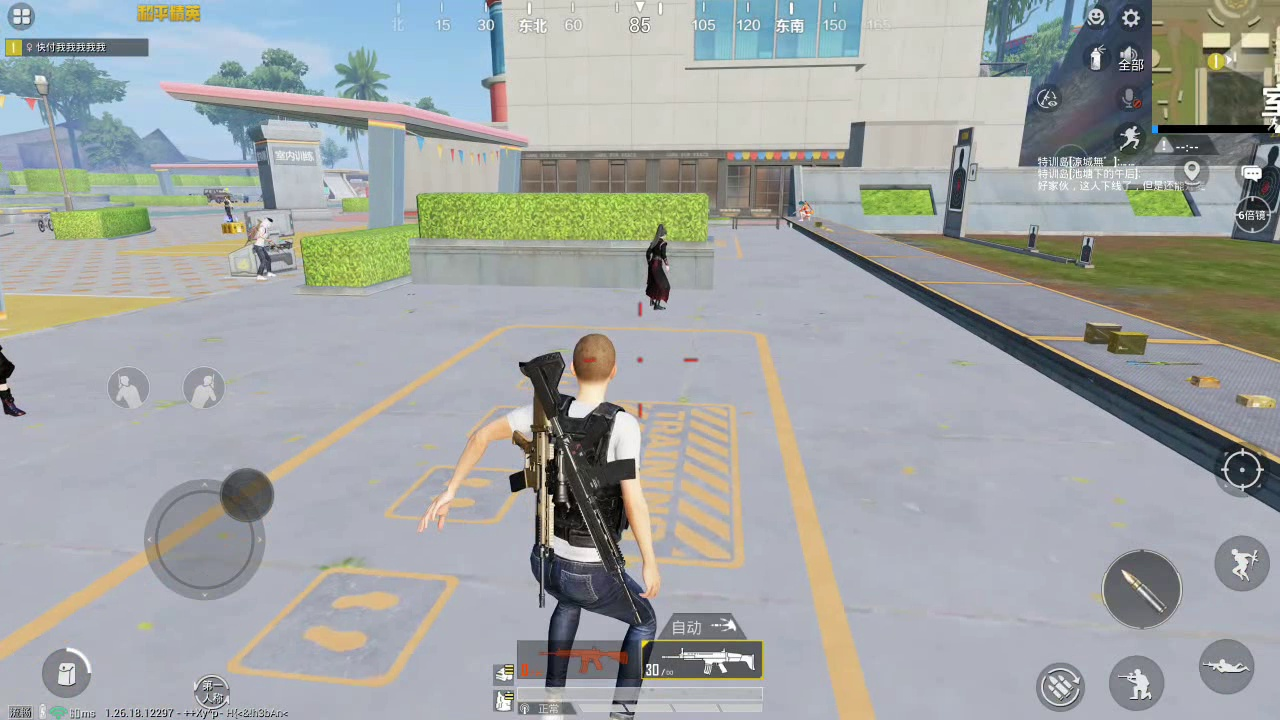enemy: (644, 224, 676, 313), (1, 332, 29, 420), (249, 214, 282, 280), (791, 198, 811, 224)
